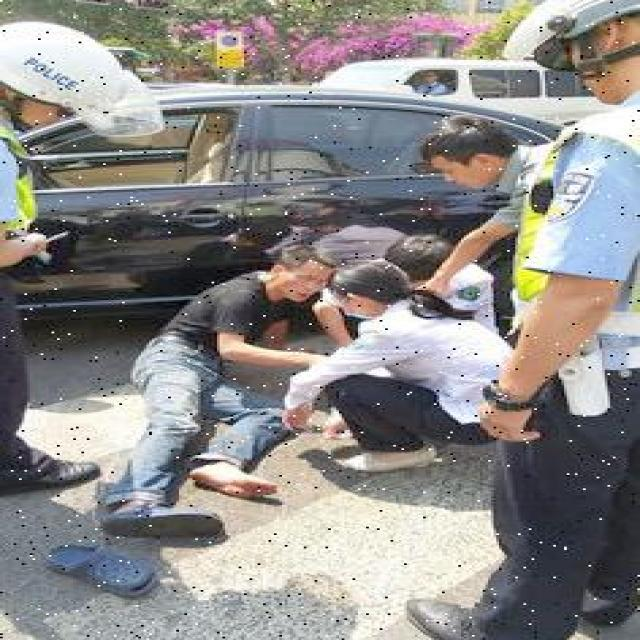fall: (117, 256, 330, 516)
